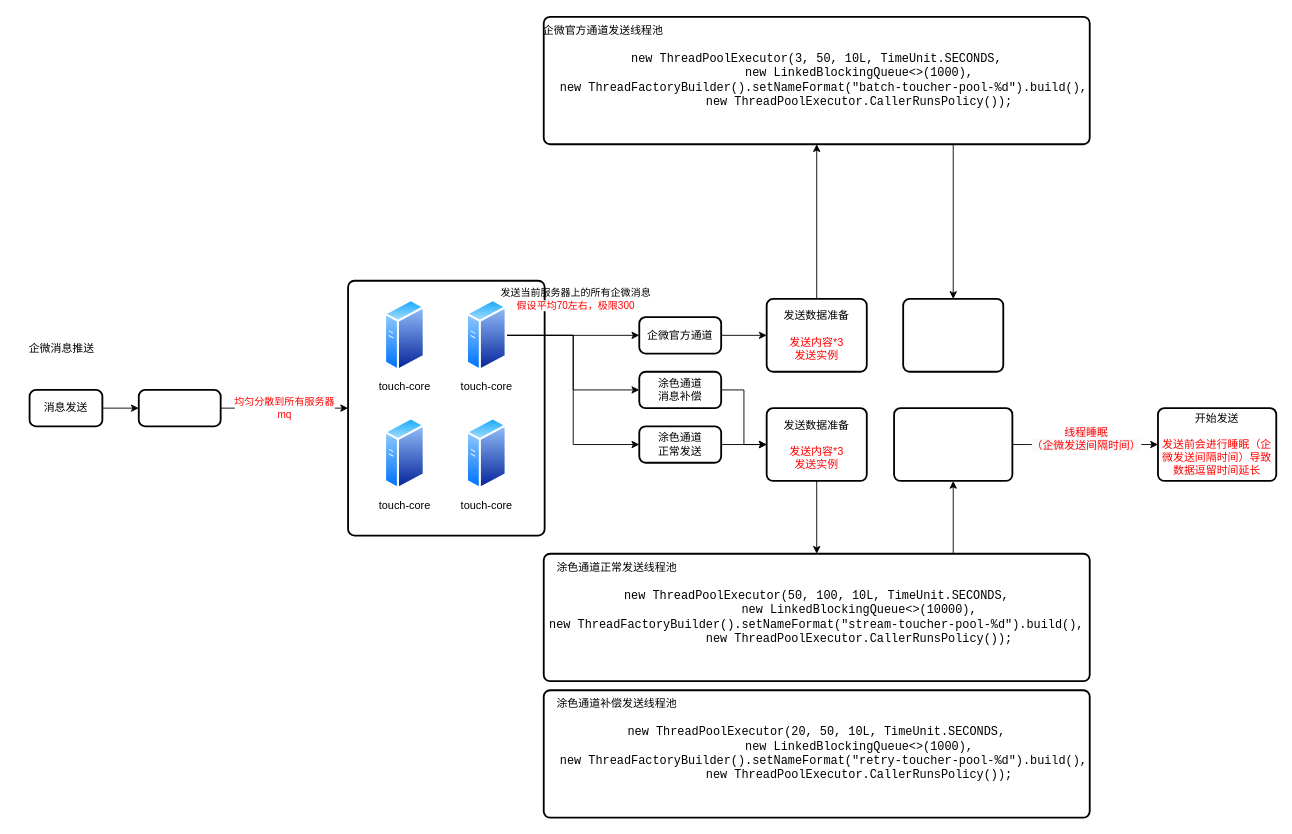
This 1292x834 diagram has some shape labels left out. The centre of each missing label's shape, as x and y in pixels:
准备发送: (x=953, y=444)
直接发送: (x=953, y=335)
需要使用的企微 总共300: (x=179, y=408)
